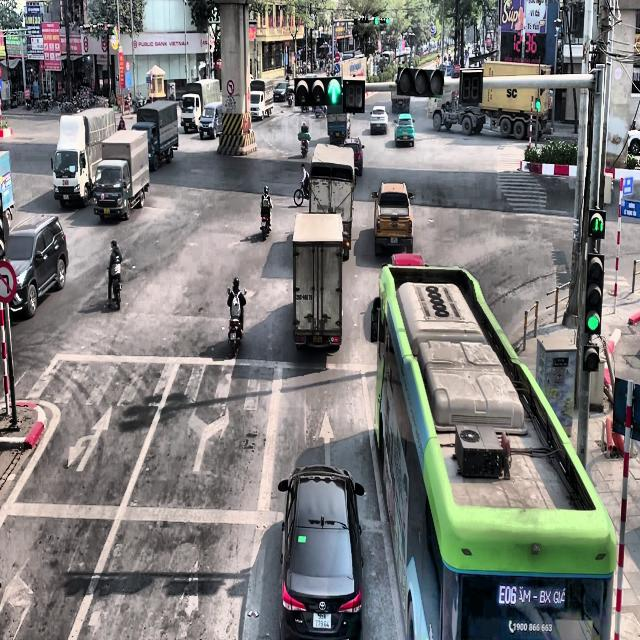BUS: (371, 252, 616, 639)
CAR: (278, 464, 365, 639), (4, 213, 68, 319), (372, 182, 414, 256), (198, 101, 223, 140), (341, 137, 364, 176), (370, 106, 388, 134), (273, 82, 289, 101), (314, 105, 324, 118)
MOTORBIKE: (228, 316, 242, 358), (107, 267, 121, 309), (294, 175, 310, 207), (260, 202, 272, 240), (300, 136, 308, 157)
TRAFFIC_LIGHT: (584, 250, 604, 335), (588, 208, 606, 238), (326, 77, 342, 105), (374, 15, 389, 25), (374, 16, 378, 25)
TRUCK: (51, 106, 116, 208), (92, 129, 150, 221), (132, 99, 178, 171)
